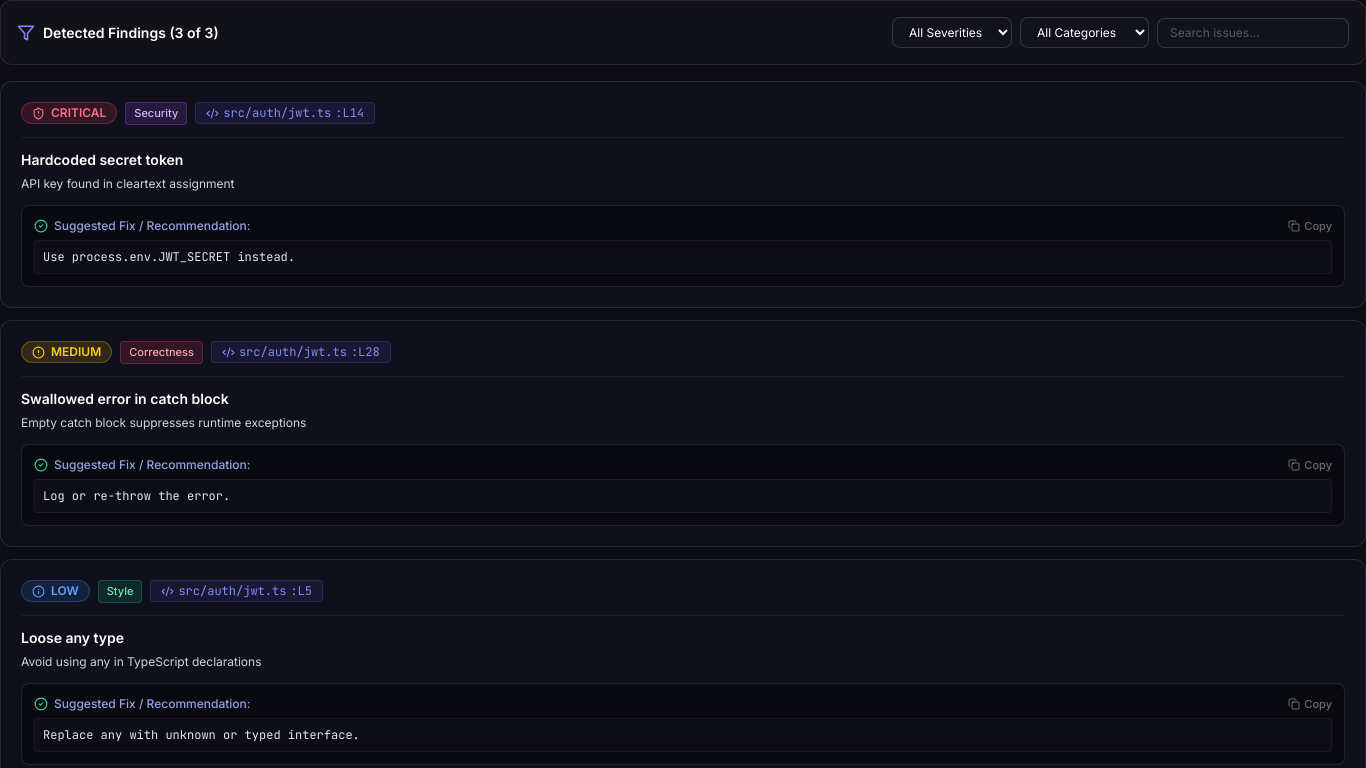
Code Review Components › ReviewIssuesList › renders findings and supports severity filtering
expect the heading "Hardcoded secret token" is shown: met, box [21,150,183,168]
expect the heading "Swallowed error in catch block" is shown: met, box [21,390,229,406]
Note: Filter by Critical
Select "Critical" in the 1st dropdown at (952, 32), box [892,17,1012,48]
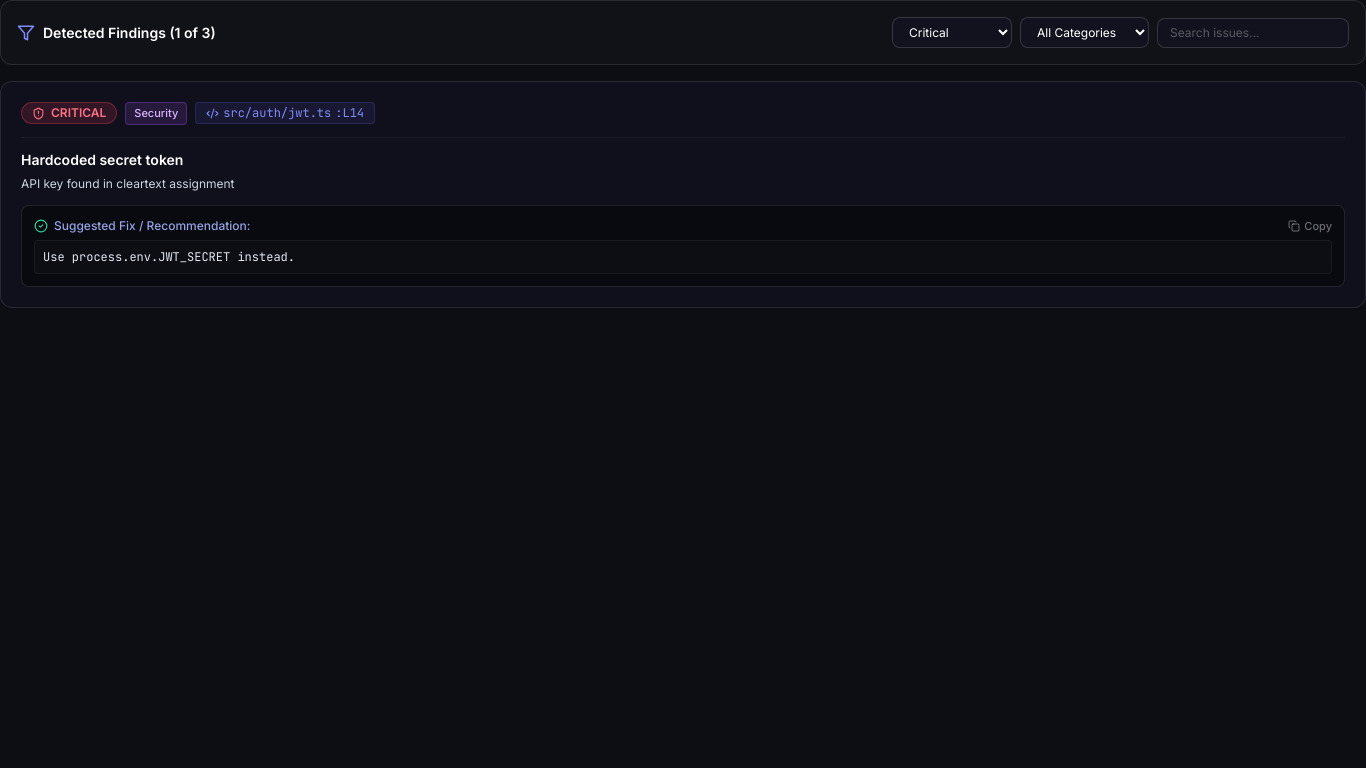
expect the heading "Hardcoded secret token" is shown: met, box [21,150,183,168]
expect the heading "Swallowed error in catch block" is gone: met
expect the heading "Loose any type" is gone: met
